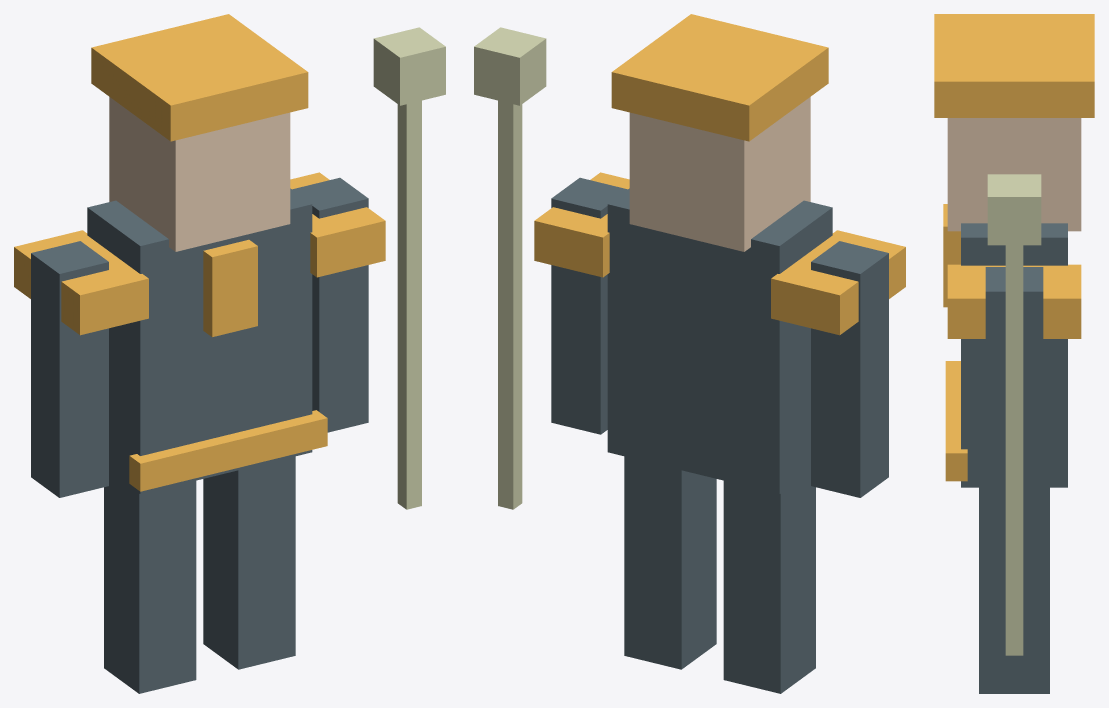
Rendered from 12_vexa_ashvein_navigator_at_recovery.glb.
3 renders of one model, left to right at view 1: azimuth 30°, elevation 25°; view 2: azimuth 150°, elevation 25°; view 3: azimuth 270°, elevation 25°, orthographic.
Parts seen in each view (by area): view 1: Vexa Ashvein, Navigator at Recovery; view 2: Vexa Ashvein, Navigator at Recovery; view 3: Vexa Ashvein, Navigator at Recovery.
Boxes of the visible parts, box(x1,y1,x2,y2) form: Vexa Ashvein, Navigator at Recovery: box(14, 14, 445, 693); Vexa Ashvein, Navigator at Recovery: box(474, 14, 905, 693); Vexa Ashvein, Navigator at Recovery: box(934, 14, 1094, 693).
Bounding box in the file's own units: 0.9381 × 1.39 × 0.3327.
